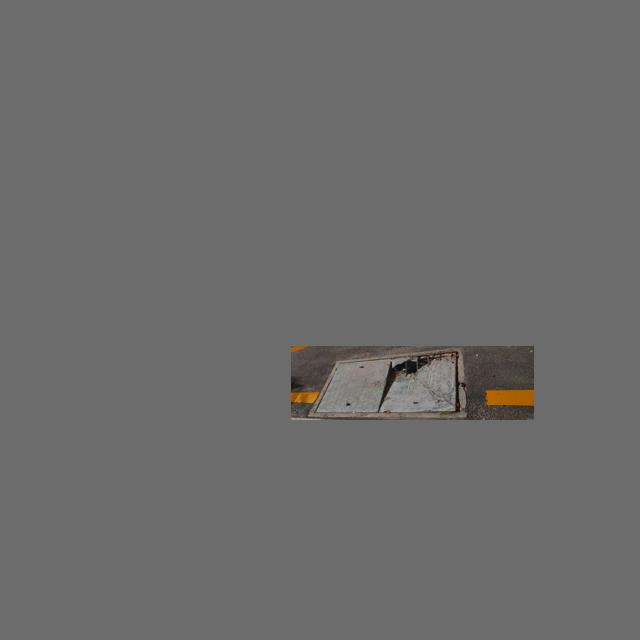broke: (306, 347, 467, 417)
